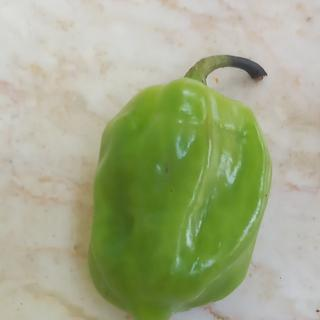Grade-A: (84, 75, 276, 317)
